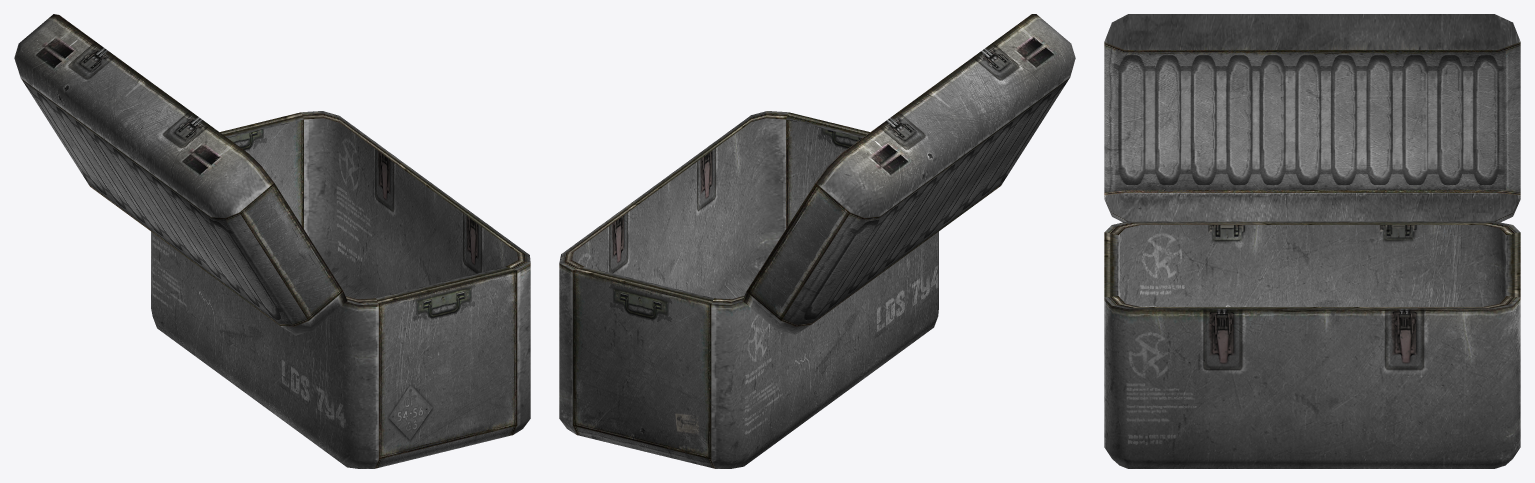
Rendered from Model_Crate_02_Open.fbx.
3 views of the same model, side by side, from view 1: azimuth 30°, elevation 25°; view 2: azimuth 150°, elevation 25°; view 3: azimuth 270°, elevation 25° (orthographic). The views are drawn at different scales.
Parts seen in each view (by area): view 1: Crate_02_Open; view 2: Crate_02_Open; view 3: Crate_02_Open.
Part boxes in pixels (bbox=[...]): Crate_02_Open: bbox=[14, 14, 530, 468]; Crate_02_Open: bbox=[559, 14, 1075, 468]; Crate_02_Open: bbox=[1104, 14, 1520, 468].
Bounding box in the file's own units: 173 × 175 × 200.
